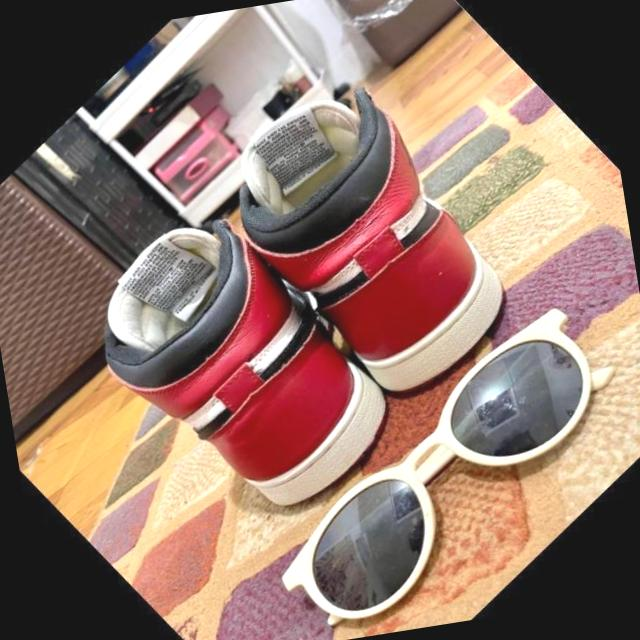nike_fake_jordan: (177, 27, 572, 441), (48, 158, 439, 571)
